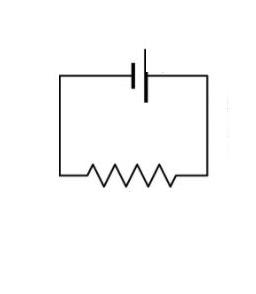resistor: (71, 150, 186, 202)
